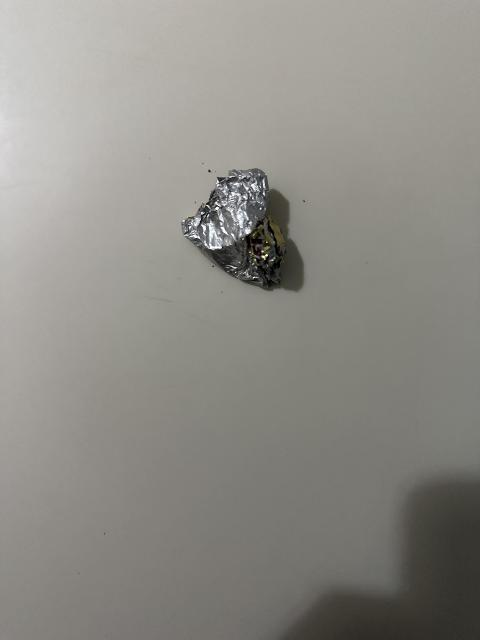Plastik: (171, 152, 319, 290)
